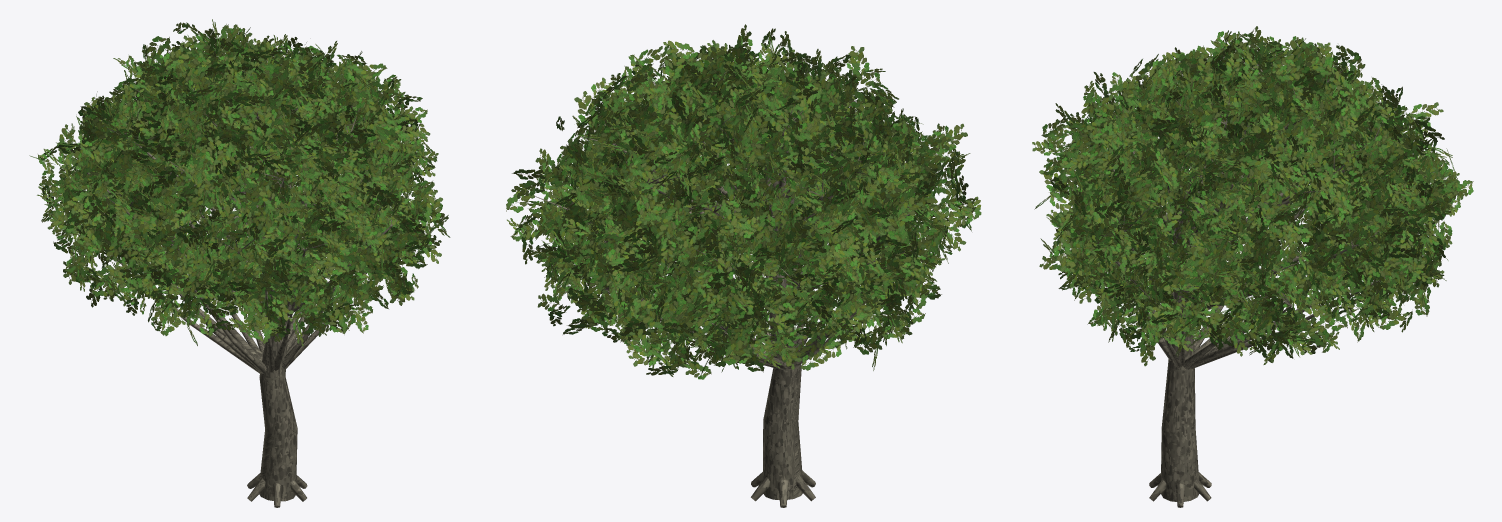
File: G4_near_statue-BIUlmZ8O.glb
The picture shows the model from 3 angles, left to right: view 1: azimuth 30°, elevation 25°; view 2: azimuth 150°, elevation 25°; view 3: azimuth 270°, elevation 25°; orthographic projection. The views are drawn at different scales.
Parts seen in each view (by area): view 1: G4_near_statue_foliage, G4_near_statue_branches; view 2: G4_near_statue_foliage, G4_near_statue_branches; view 3: G4_near_statue_foliage, G4_near_statue_branches.
Boxes of the visible parts, <box> form: G4_near_statue_foliage: <box>29,19,450,346</box>; G4_near_statue_branches: <box>71,41,397,507</box>; G4_near_statue_foliage: <box>506,24,981,379</box>; G4_near_statue_branches: <box>534,66,929,507</box>; G4_near_statue_foliage: <box>1032,26,1473,366</box>; G4_near_statue_branches: <box>1086,58,1433,507</box>.
Bounding box in the file's own units: 9.89 × 10.84 × 10.
2 materials, 2 textured.
